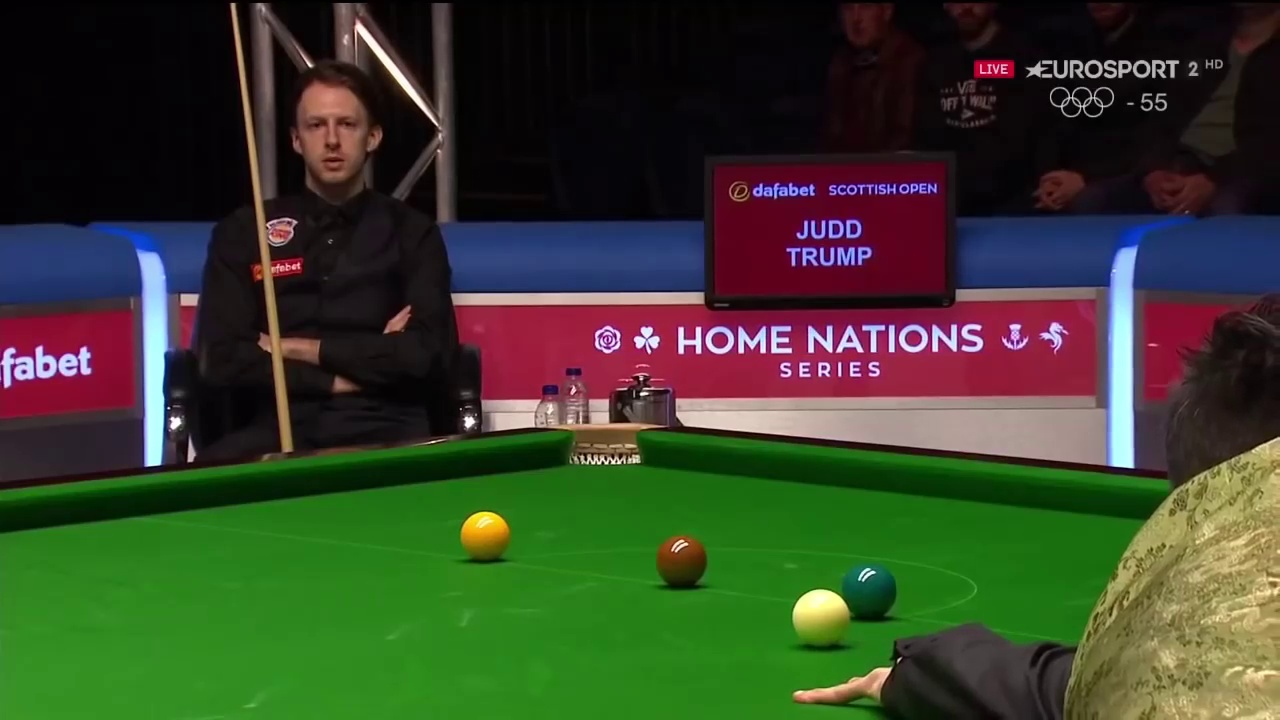brown: (654, 537, 707, 590)
green: (848, 566, 895, 620)
white: (787, 591, 849, 648)
yellow: (458, 513, 509, 562)
